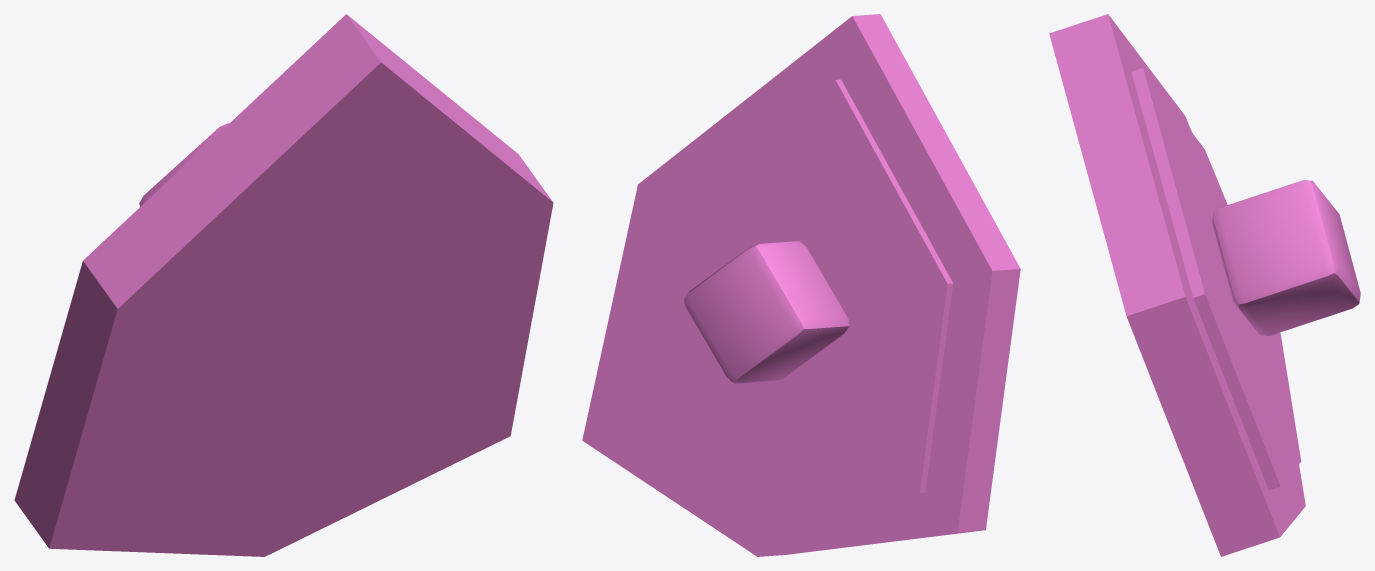
The model's file is Item_Shield.fbx.
3 renders of one model, left to right at view 1: azimuth 30°, elevation 25°; view 2: azimuth 150°, elevation 25°; view 3: azimuth 270°, elevation 25°, orthographic. The views are drawn at different scales.
Visible parts, largest first — view 1: Shield; view 2: Shield; view 3: Shield.
Boxes of the visible parts, x1,y1,x2,y2 form: Shield: (14,14,553,556); Shield: (582,14,1020,556); Shield: (1049,14,1360,556).
Bounding box in the file's own units: 3.6 × 4.49 × 2.48.
1 material, 1 textured.
